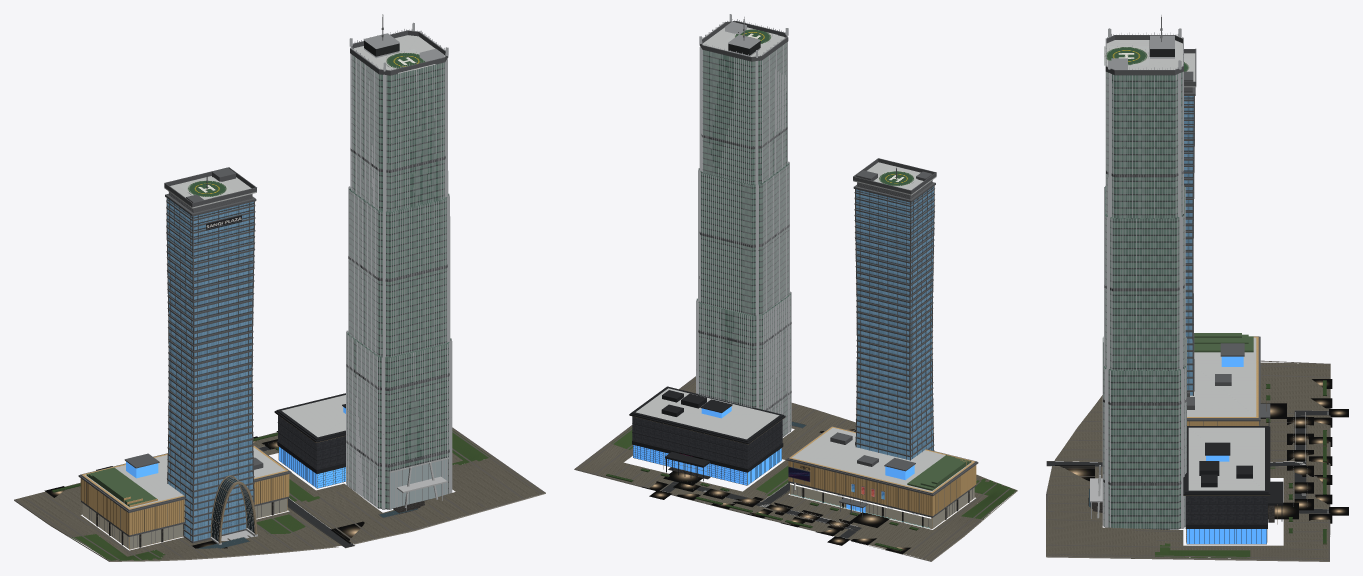
The picture shows the model from 3 angles, left to right: view 1: azimuth 30°, elevation 25°; view 2: azimuth 150°, elevation 25°; view 3: azimuth 270°, elevation 25°; orthographic projection. The views are drawn at different scales.
Visible parts, largest first — view 1: FIN_Tower_Glass, FIN_Tower_Fins, SANQI_Tower_Glass, SANQI_Tower_Structure, SITE_TW_plaza, FIN_Tower_Bands, SANQI_Podium_Flutes, SITE_TW_dark, SITE_TW_lawn, SANQI_Podium_Metal, FIN_Podium, FIN_Base_Glass (+16 smaller); view 2: FIN_Tower_Glass, FIN_Tower_Fins, SANQI_Tower_Glass, SANQI_Tower_Structure, SITE_TW_plaza, FIN_Podium_Metal, FIN_Tower_Bands, FIN_Podium, SANQI_Podium_Flutes, SANQI_Podium_Roof, SITE_TW_pool, SANQI_Podium_Metal (+12 smaller); view 3: FIN_Tower_Glass, FIN_Tower_Fins, SITE_TW_plaza, FIN_Tower_Bands, SITE_TW_pool, FIN_Podium_Roof, SANQI_Podium_Roof, FIN_Podium_Metal, SITE_TW_dark, FIN_Podium, SANQI_Tower_Structure, SANQI_Tower_Glass (+11 smaller).
Part boxes in pixels (x1,y1,x2,y2): FIN_Tower_Glass: (347, 55, 451, 509); FIN_Tower_Fins: (346, 14, 452, 509); SANQI_Tower_Glass: (167, 198, 253, 541); SANQI_Tower_Structure: (164, 167, 256, 543); SITE_TW_plaza: (17, 429, 545, 560); FIN_Tower_Bands: (346, 30, 449, 503); SANQI_Podium_Flutes: (83, 475, 285, 534); SITE_TW_dark: (14, 427, 545, 560); SITE_TW_lawn: (72, 430, 490, 560); SANQI_Podium_Metal: (78, 444, 291, 548); FIN_Podium: (278, 415, 345, 469); FIN_Base_Glass: (390, 459, 447, 508); FIN_Tower_Glass: (697, 43, 790, 436); FIN_Tower_Fins: (696, 14, 791, 437); SANQI_Tower_Glass: (856, 186, 933, 460); SANQI_Tower_Structure: (853, 158, 936, 460); SITE_TW_plaza: (576, 378, 1015, 560); FIN_Podium_Metal: (629, 386, 785, 484); FIN_Tower_Bands: (698, 21, 791, 413); FIN_Podium: (632, 416, 782, 468); SANQI_Podium_Flutes: (809, 466, 974, 515); SANQI_Podium_Roof: (792, 427, 972, 491); SITE_TW_pool: (641, 429, 910, 553); SANQI_Podium_Metal: (786, 426, 978, 527); FIN_Tower_Glass: (1103, 72, 1186, 529); FIN_Tower_Fins: (1102, 15, 1186, 529); SITE_TW_plaza: (1046, 362, 1330, 559); FIN_Tower_Bands: (1103, 35, 1186, 523); SITE_TW_pool: (1055, 379, 1348, 523); FIN_Podium_Roof: (1188, 427, 1264, 490); SANQI_Podium_Roof: (1187, 337, 1256, 416); FIN_Podium_Metal: (1183, 426, 1283, 543); SITE_TW_dark: (1046, 360, 1330, 560); FIN_Podium: (1186, 496, 1267, 524); SANQI_Tower_Structure: (1184, 48, 1196, 395); SANQI_Tower_Glass: (1184, 96, 1193, 395).
Bounding box in the file's own units: 287 × 329 × 181.
42 materials, 25 textured.
